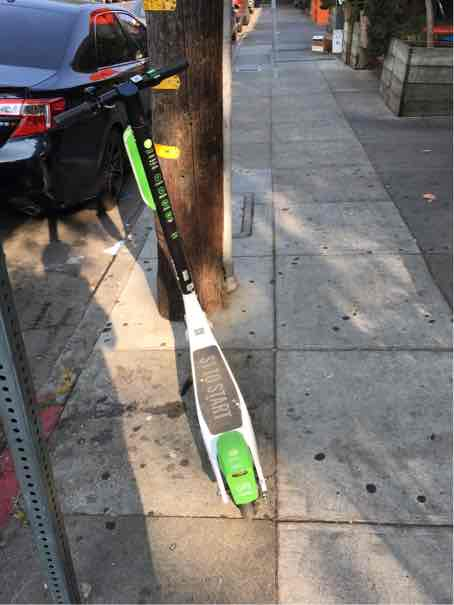scooter: (51, 60, 278, 526)
